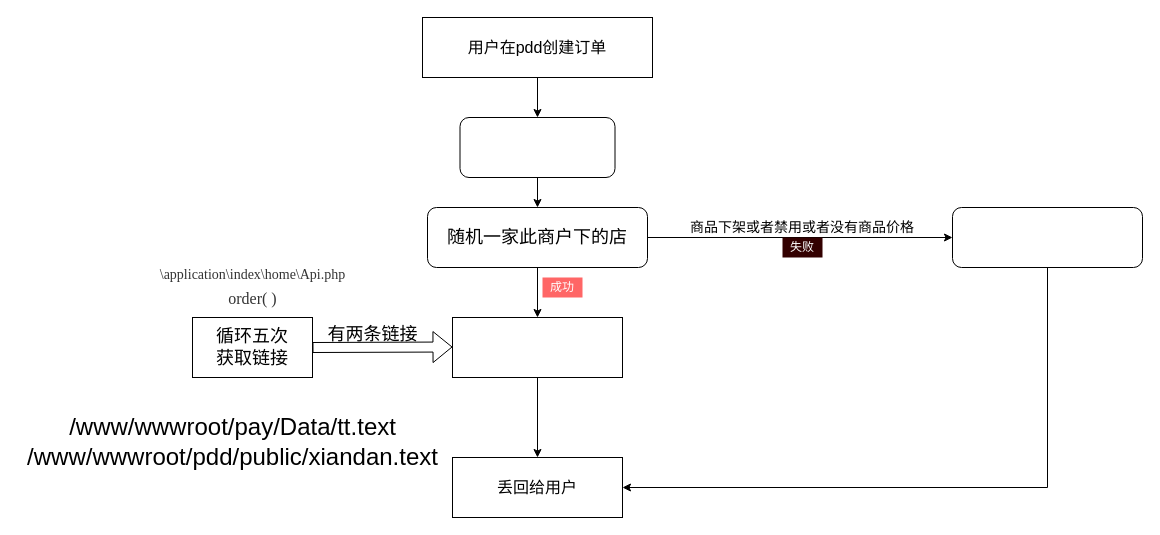
The diagram is 1160 pixels wide and 535 high, and some of its shapes have lost their labels. Here are the shapes that lost their labels. From the top down, the centre of each, then its label:
At point (537, 147): "随机一个商户".
At point (1047, 237): "返回null".
At point (537, 347): "四方支付创建链接".
